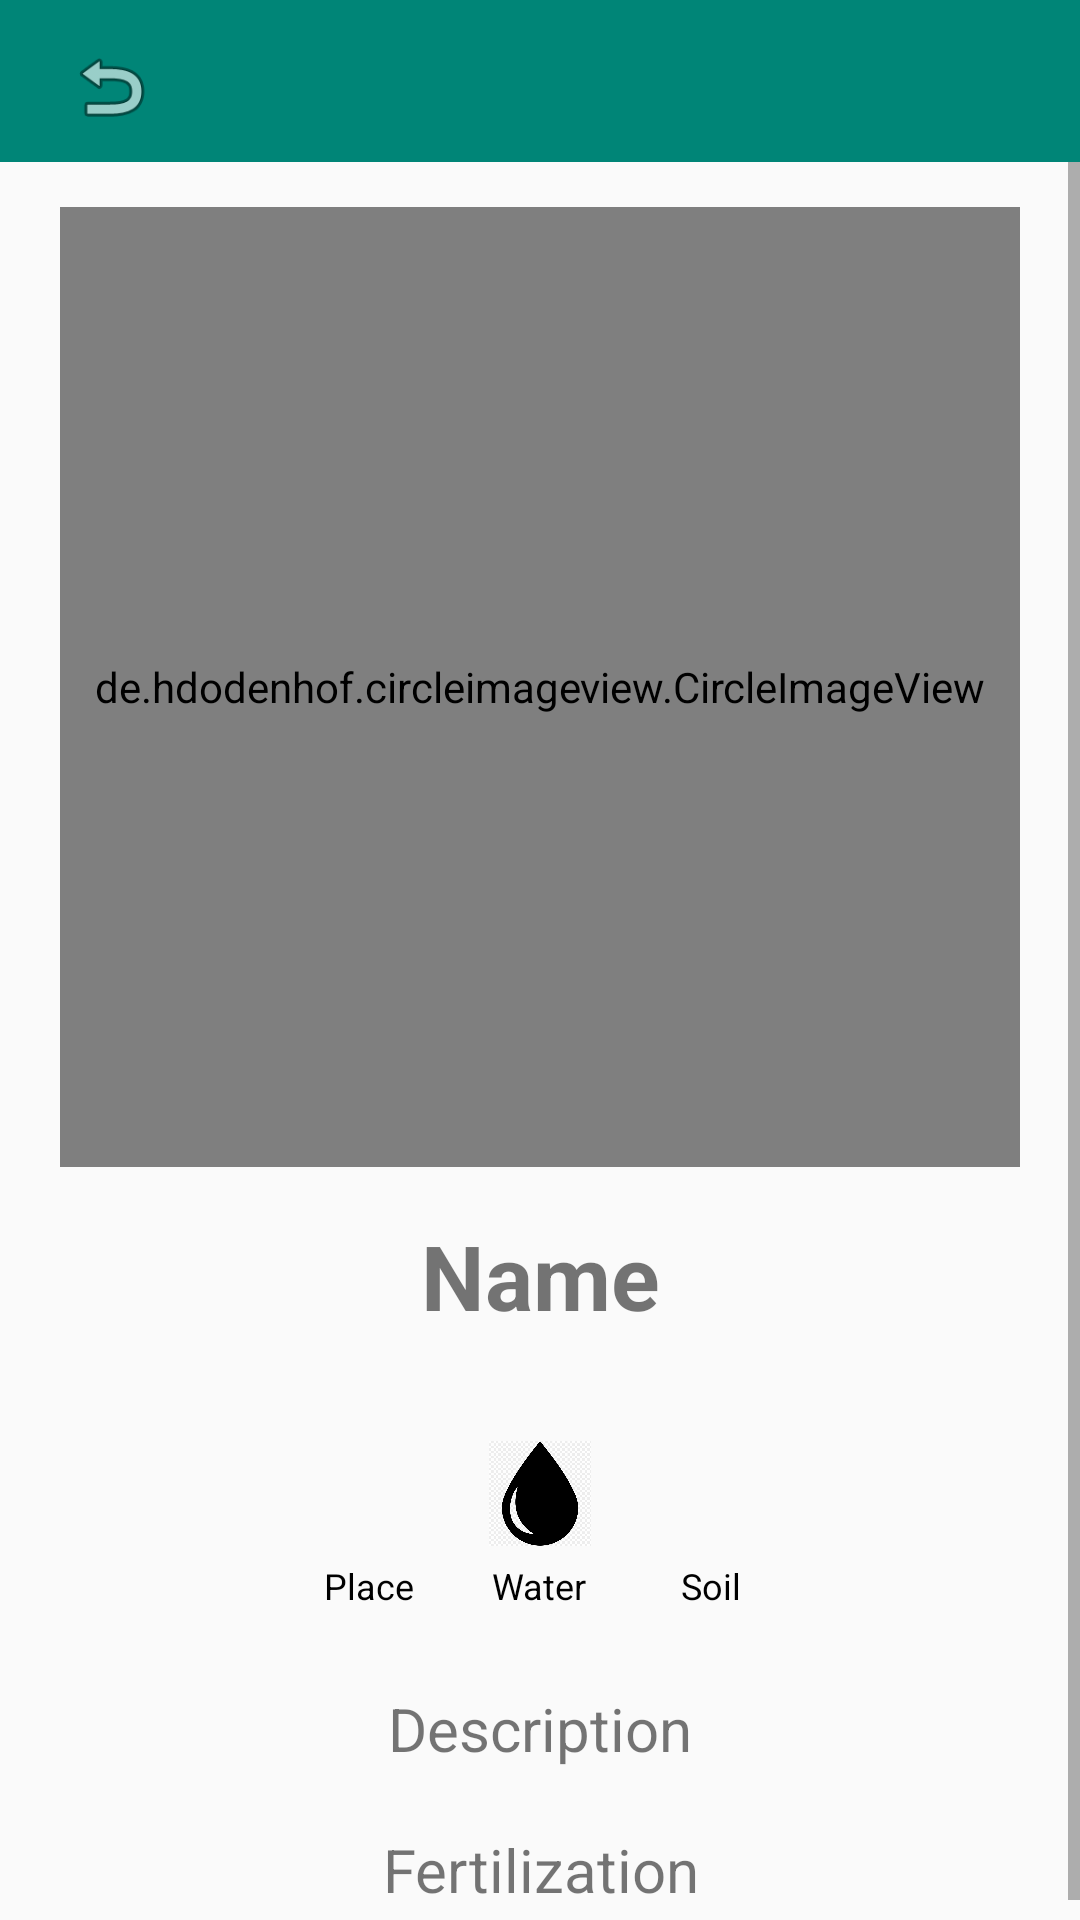

Icon click points for this 1080px x 1920px phone screenshot, format (x=x, y=y):
revert: (x=112, y=88)
